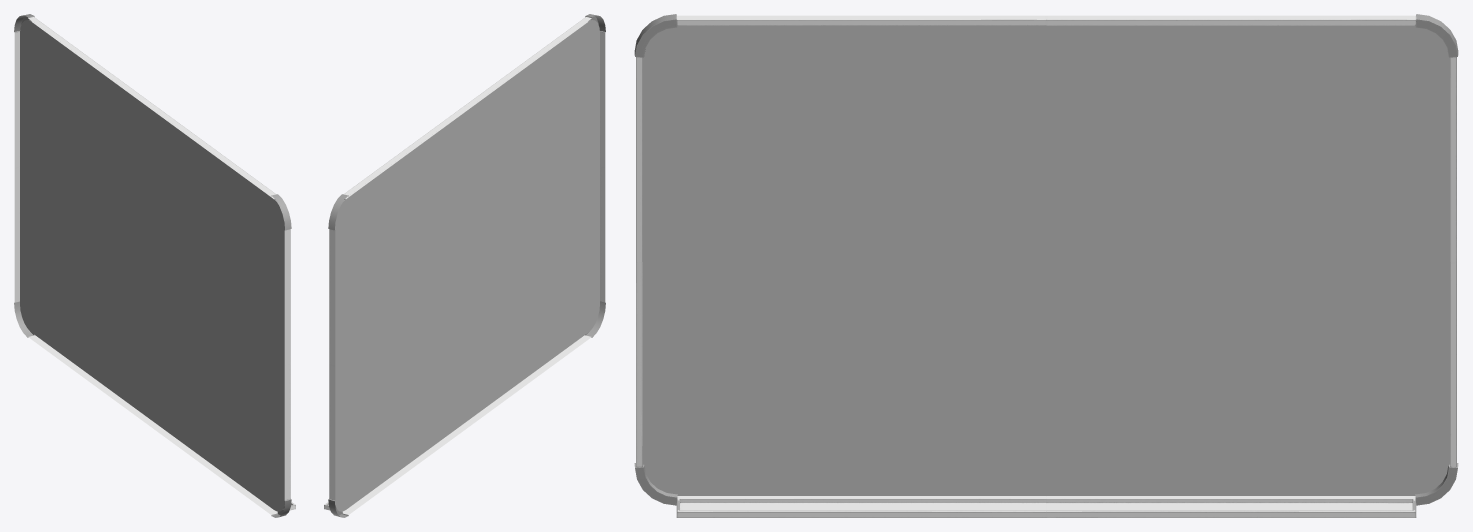
Rendered from board.fbx.
3 views of the same model, side by side, from view 1: azimuth 30°, elevation 25°; view 2: azimuth 150°, elevation 25°; view 3: azimuth 270°, elevation 25° (orthographic). The views are drawn at different scales.
Visible parts, largest first — view 1: defaultMaterial, defaultMaterial.001; view 2: defaultMaterial, defaultMaterial.001; view 3: defaultMaterial, defaultMaterial.001.
Part boxes in pixels (x1,y1,x2,y2): defaultMaterial: (20,20,284,511); defaultMaterial.001: (14,14,295,517); defaultMaterial: (335,20,599,511); defaultMaterial.001: (324,14,605,517); defaultMaterial: (643,26,1449,495); defaultMaterial.001: (634,14,1458,517).
Bounding box in the file's own units: 1057 × 13100 × 20081.
